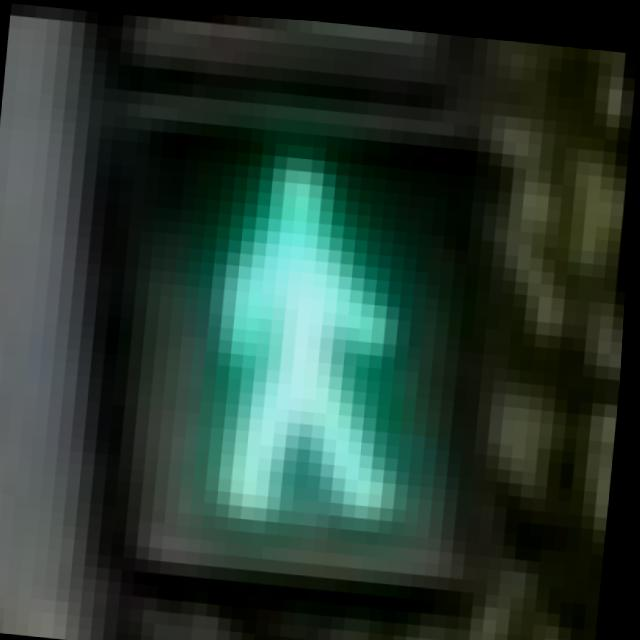green_light: (93, 75, 482, 558)
